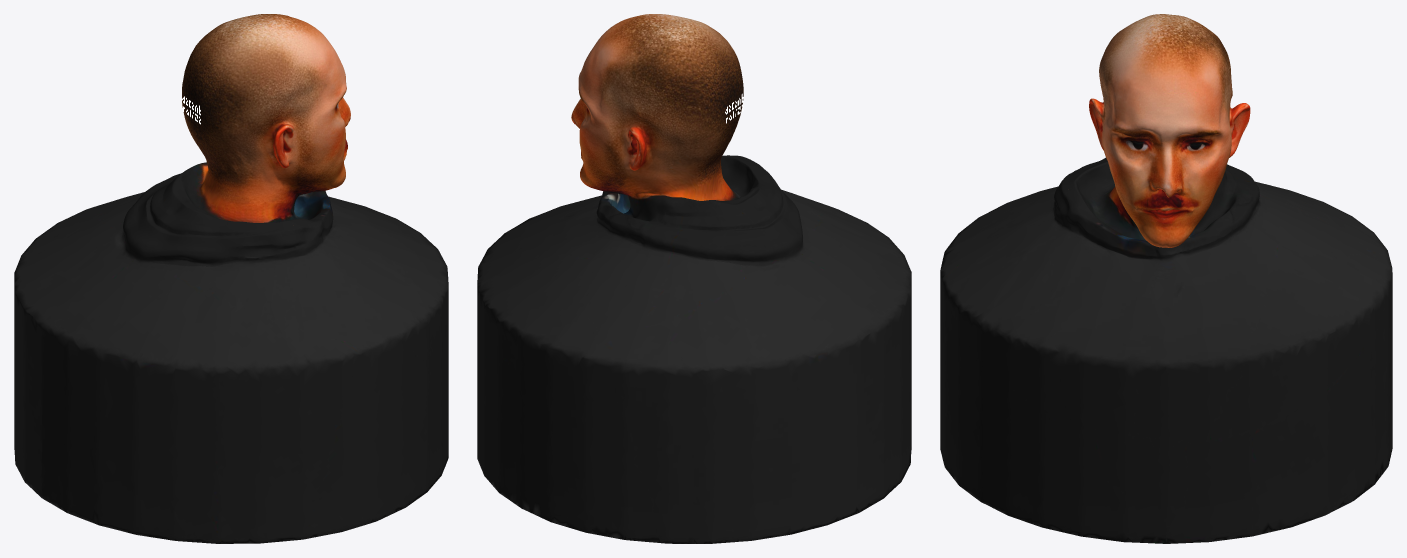
Rendered from decentralize-animation360.glb.
3 views of the same model, side by side, from view 1: azimuth 30°, elevation 25°; view 2: azimuth 150°, elevation 25°; view 3: azimuth 270°, elevation 25° (orthographic). The views are drawn at different scales.
Parts seen in each view (by area): view 1: tripo_node_b7df0203-1af5-4726-8405-aaec9ad5e29e.001; view 2: tripo_node_b7df0203-1af5-4726-8405-aaec9ad5e29e.001; view 3: tripo_node_b7df0203-1af5-4726-8405-aaec9ad5e29e.001.
Part boxes in pixels (x1,y1,x2,y2): tripo_node_b7df0203-1af5-4726-8405-aaec9ad5e29e.001: [14, 14, 448, 543]; tripo_node_b7df0203-1af5-4726-8405-aaec9ad5e29e.001: [477, 14, 911, 543]; tripo_node_b7df0203-1af5-4726-8405-aaec9ad5e29e.001: [940, 14, 1392, 543].
Size of the model in its own units: 0.9337 by 1 by 0.9349.
Materials: 2 (2 with a texture image).
